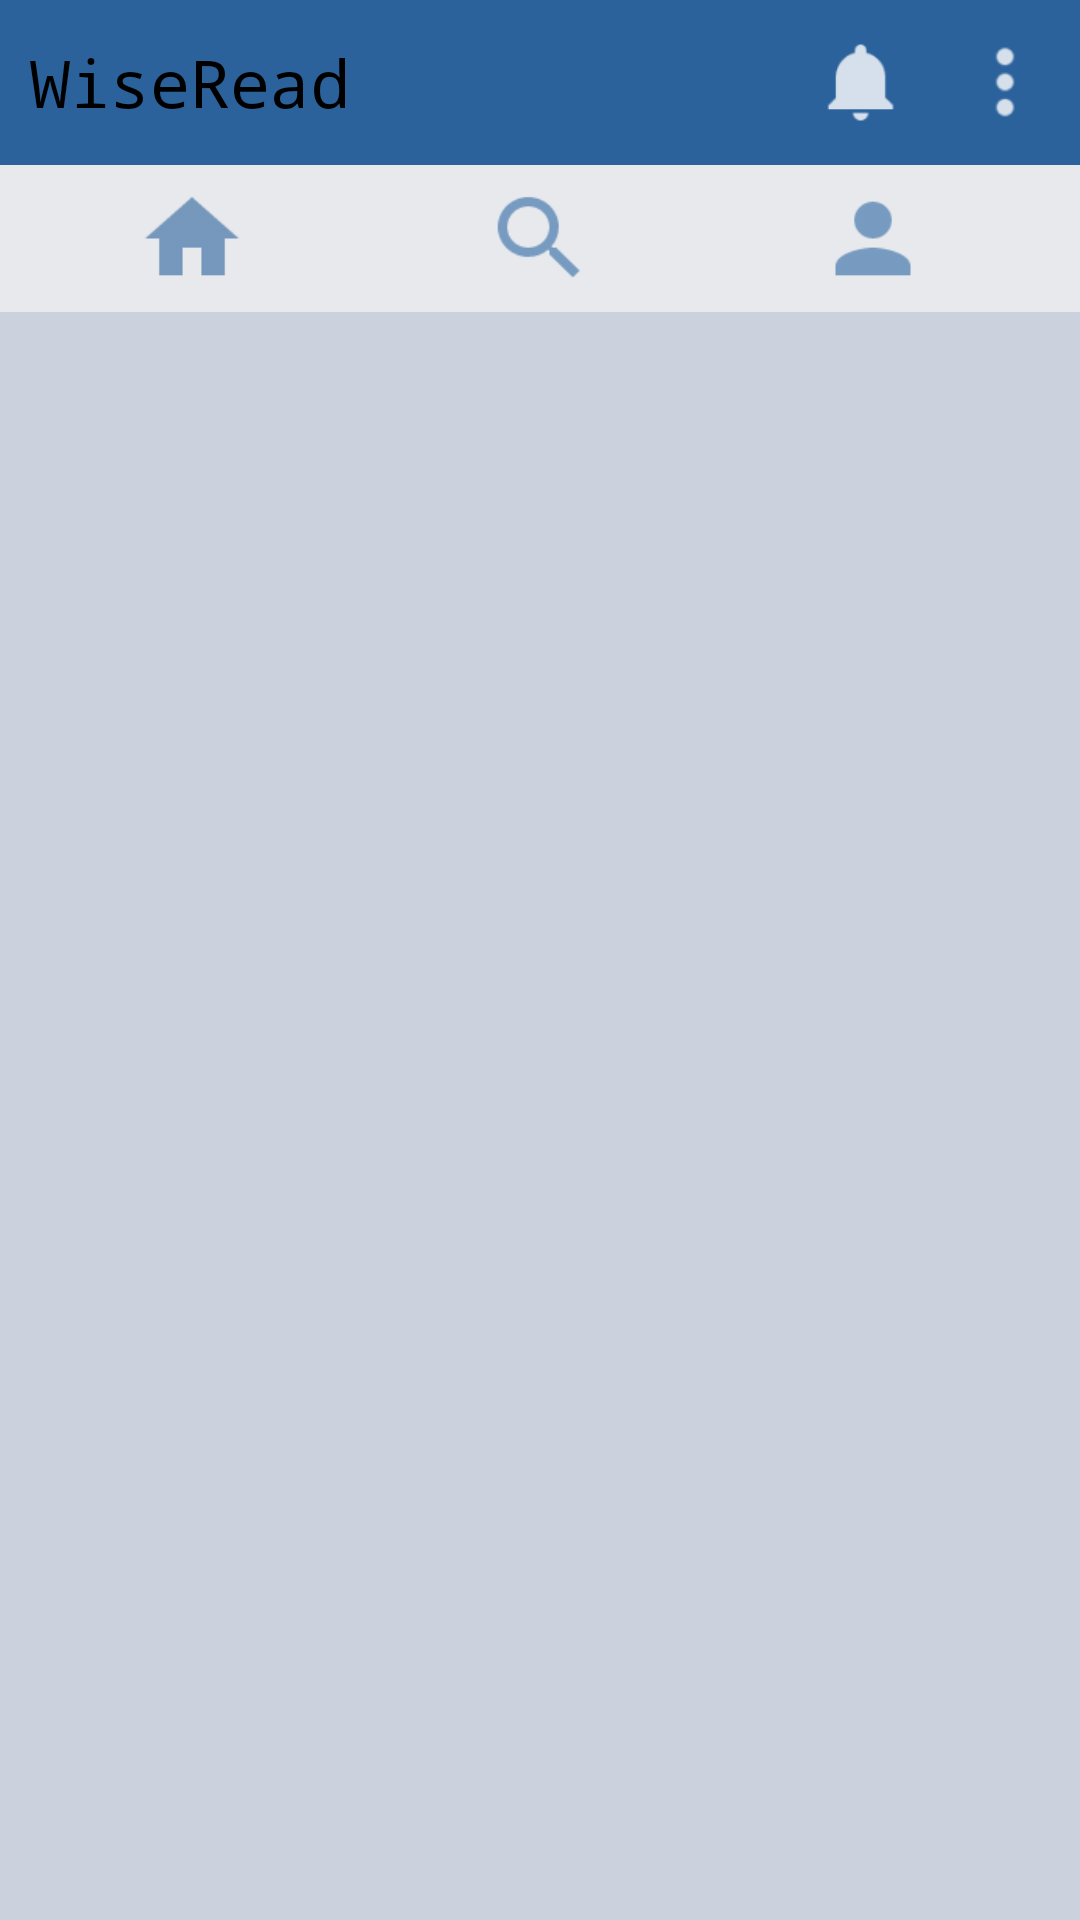

Screen size 1080×1920. Icon name, then its center in pixels as point (x, y):
actionhome: point (192, 236)
search: point (538, 237)
social notifications: point (860, 82)
social person: point (873, 238)
